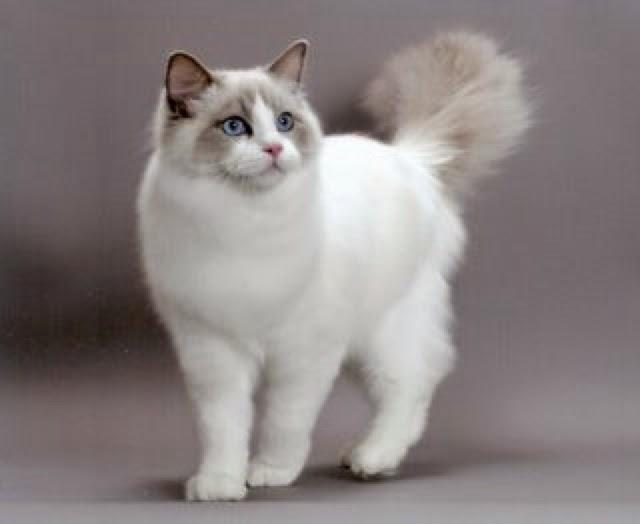ragdoll: (151, 36, 326, 201)
